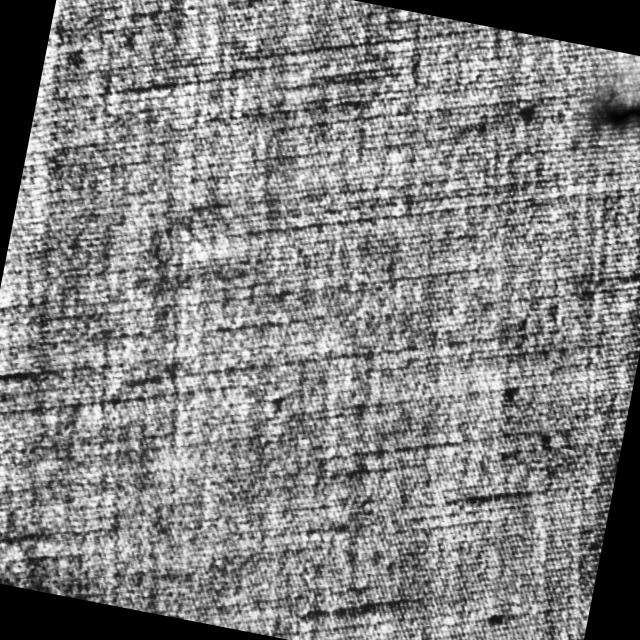gray stitch: (598, 76, 640, 145)
